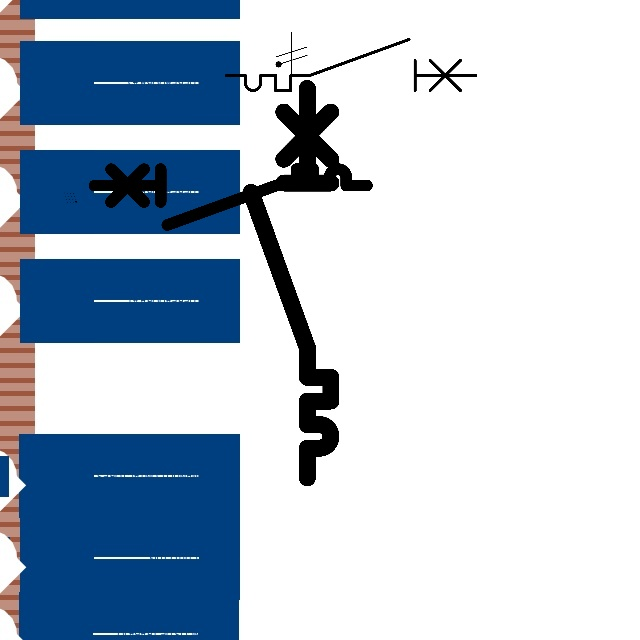interruptor_termomagnetico: (241, 78, 341, 488), (87, 162, 373, 232), (220, 33, 482, 97)
